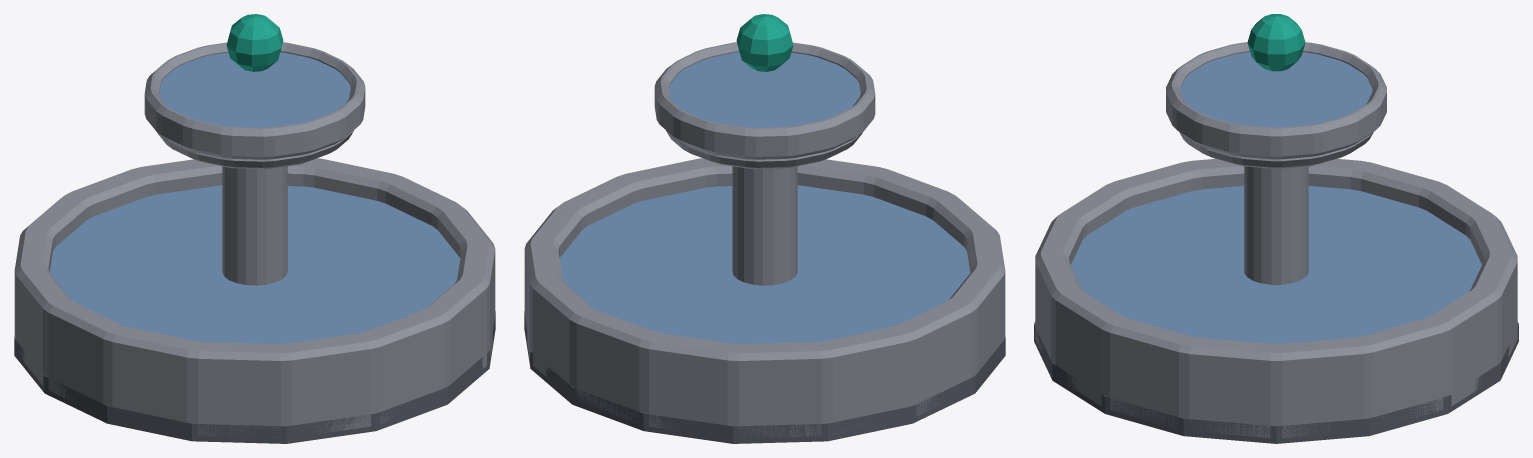
The model's file is CatCafe_Park_Fountain.glb.
The picture shows the model from 3 angles, left to right: view 1: azimuth 30°, elevation 25°; view 2: azimuth 150°, elevation 25°; view 3: azimuth 270°, elevation 25°; orthographic projection.
Visible parts, largest first — view 1: CatCafe_Park_Fountain_Basin, CatCafe_Park_Fountain_Water; view 2: CatCafe_Park_Fountain_Basin, CatCafe_Park_Fountain_Water; view 3: CatCafe_Park_Fountain_Basin, CatCafe_Park_Fountain_Water.
Part boxes in pixels (left/top/right/bottom): CatCafe_Park_Fountain_Basin: left=14, top=14, right=495, bottom=443; CatCafe_Park_Fountain_Water: left=49, top=52, right=460, bottom=343; CatCafe_Park_Fountain_Basin: left=524, top=14, right=1005, bottom=443; CatCafe_Park_Fountain_Water: left=559, top=52, right=970, bottom=343; CatCafe_Park_Fountain_Basin: left=1034, top=14, right=1518, bottom=443; CatCafe_Park_Fountain_Water: left=1071, top=52, right=1481, bottom=343.
Bounding box in the file's own units: 5 × 3.7 × 5.
1 material, 1 textured.
